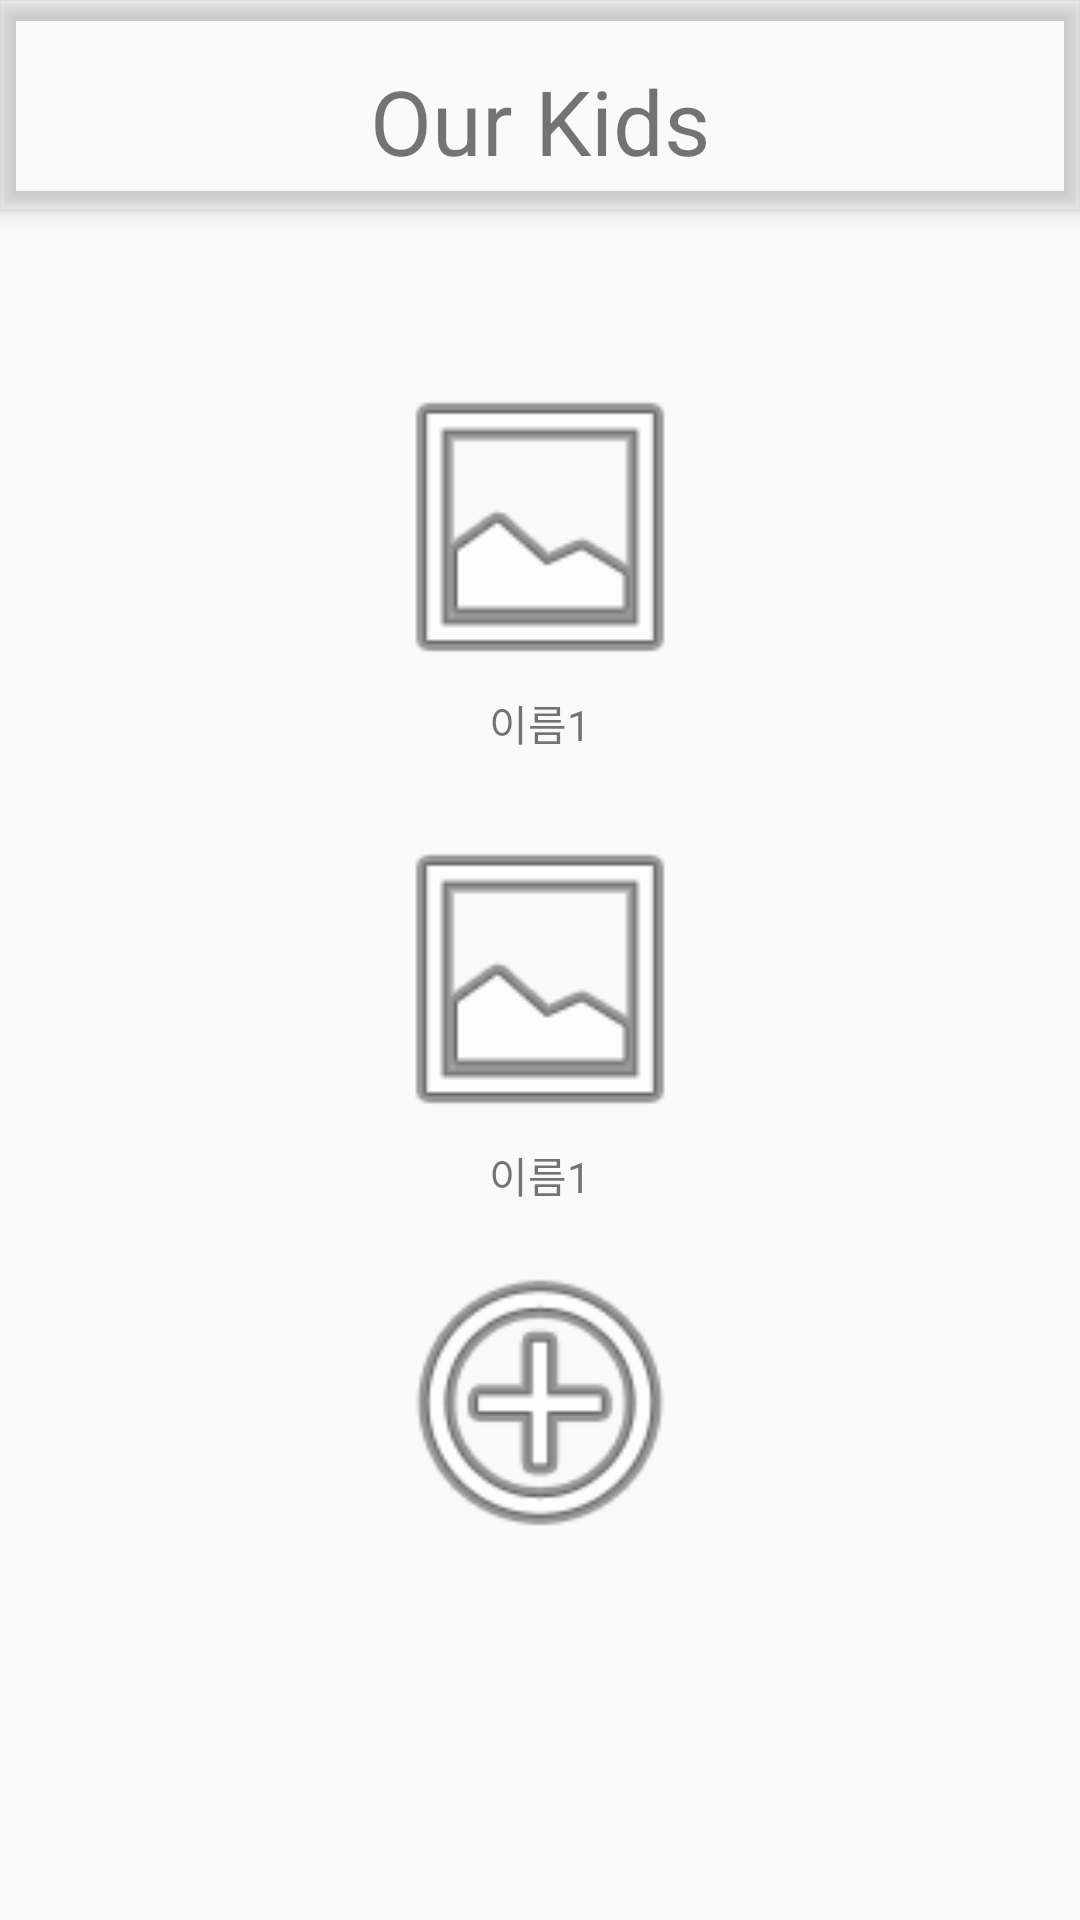

Screen size 1080x1920. Icon name, then its center in pixels as [x,y]:
add: [540,1402]
gallery: [540,527], [540,979]
